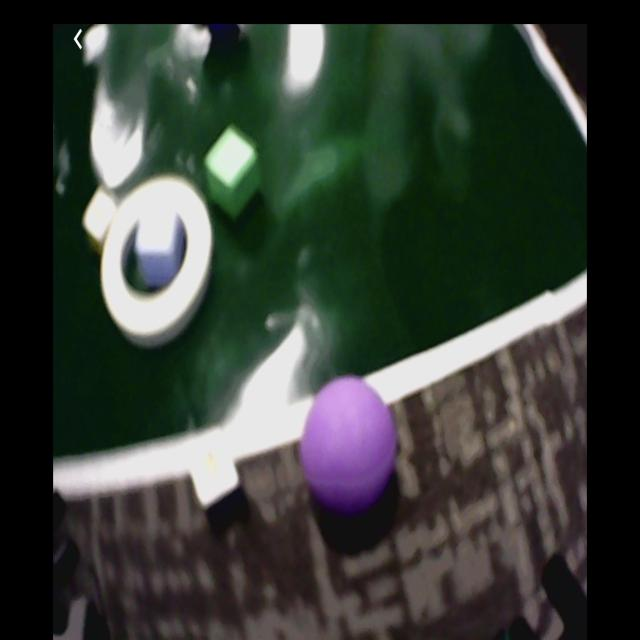ball: (303, 376, 397, 517)
